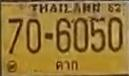0: (107, 16, 122, 51), (73, 17, 88, 52), (26, 18, 40, 53)
5: (90, 16, 105, 52)
6: (55, 17, 70, 52)
7: (8, 17, 22, 53)
TAK: (54, 59, 80, 71)
